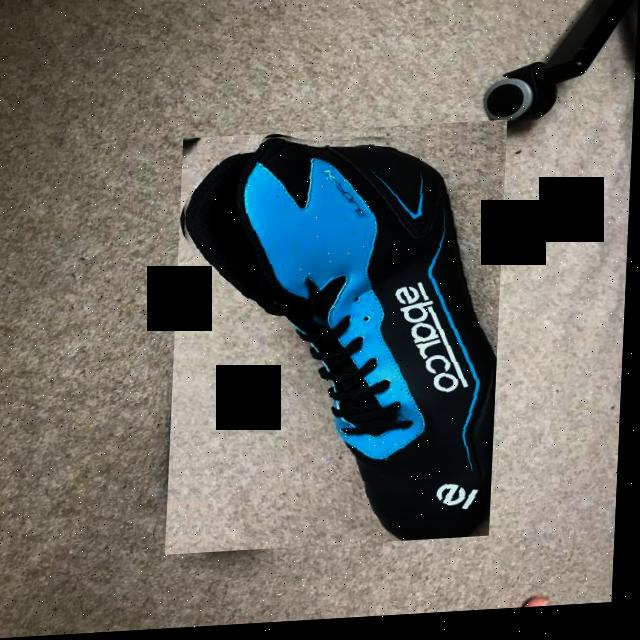shoe: (170, 126, 509, 557)
